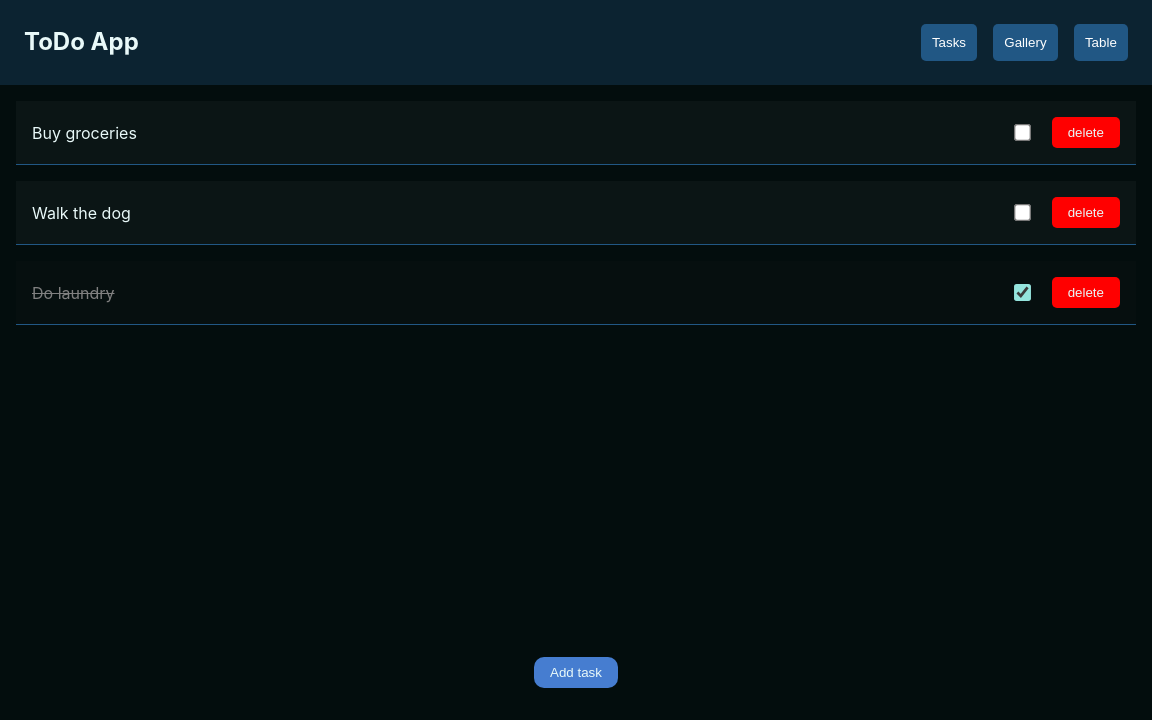
it: Modal › Opens modal when Add task button is clicked
Click the button "Add task": (576,672) [534,657,618,688]
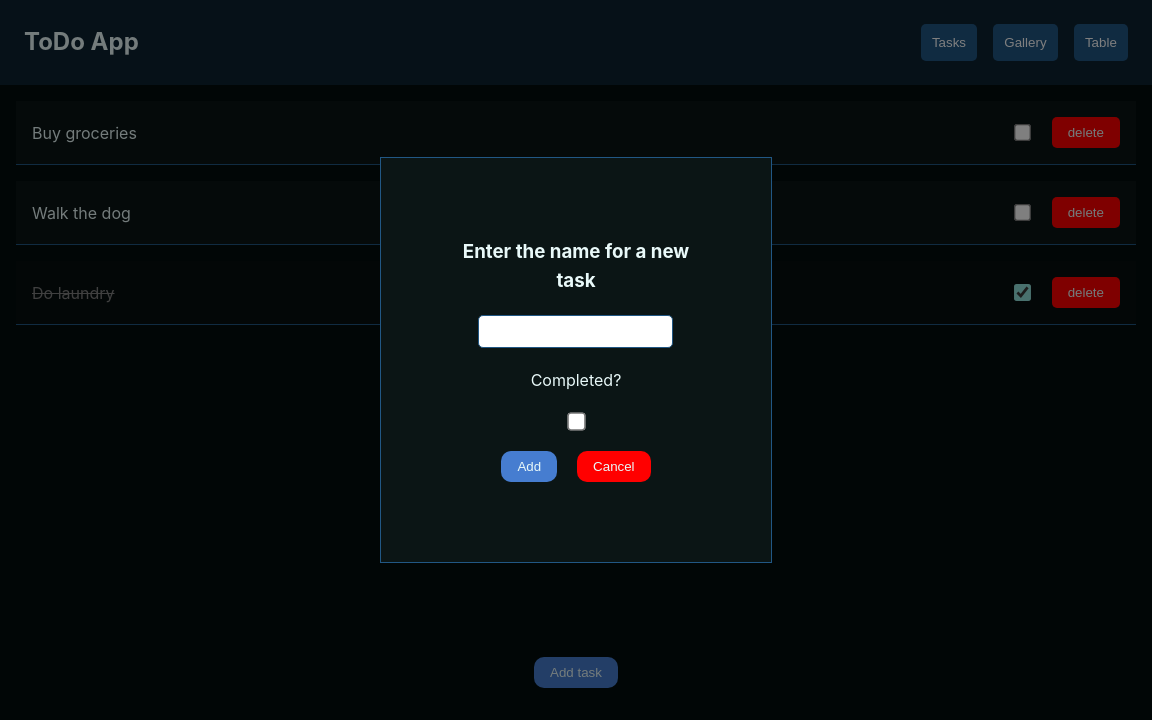
Result: the element with id "dialog" is shown
